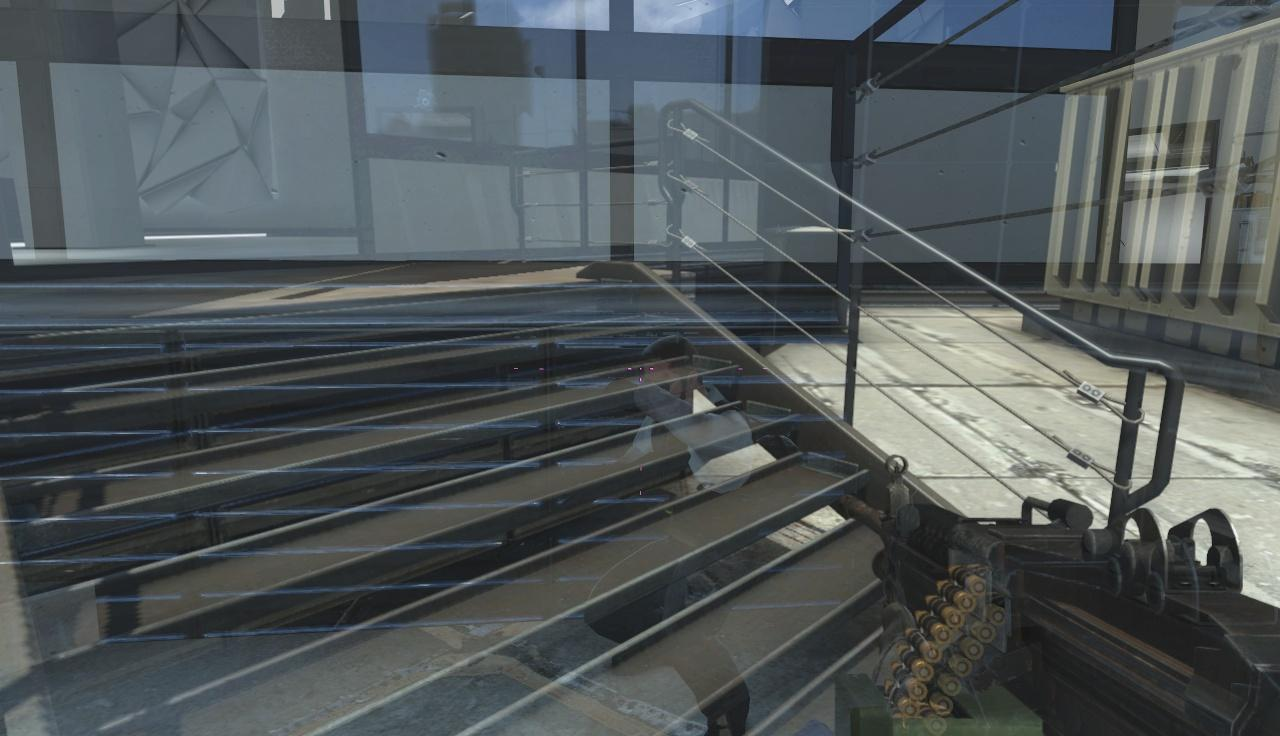rifle: (823, 458, 1280, 736)
tt: (596, 335, 771, 736)
tthead: (640, 340, 705, 409)
